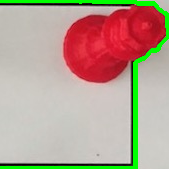Red Queen: (60, 4, 167, 84)
